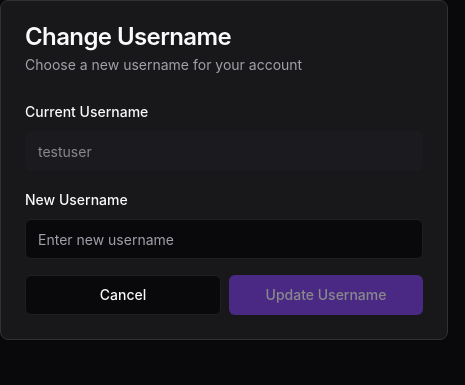
Test: UsernameChangeForm › shows username availability status
Type "takenuser" into the field with placeholder "Enter new username" at {"x": 224, "y": 239}, box [25,219,423,259]
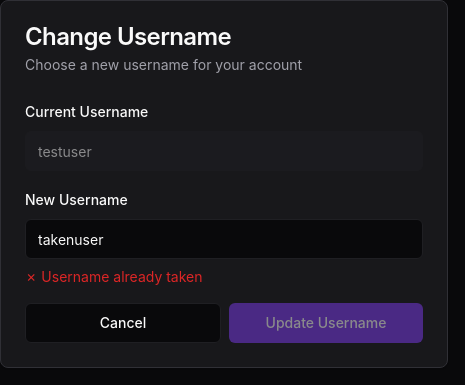
Expected: the text "✗ Username already taken" is shown, [25,268,202,285]
